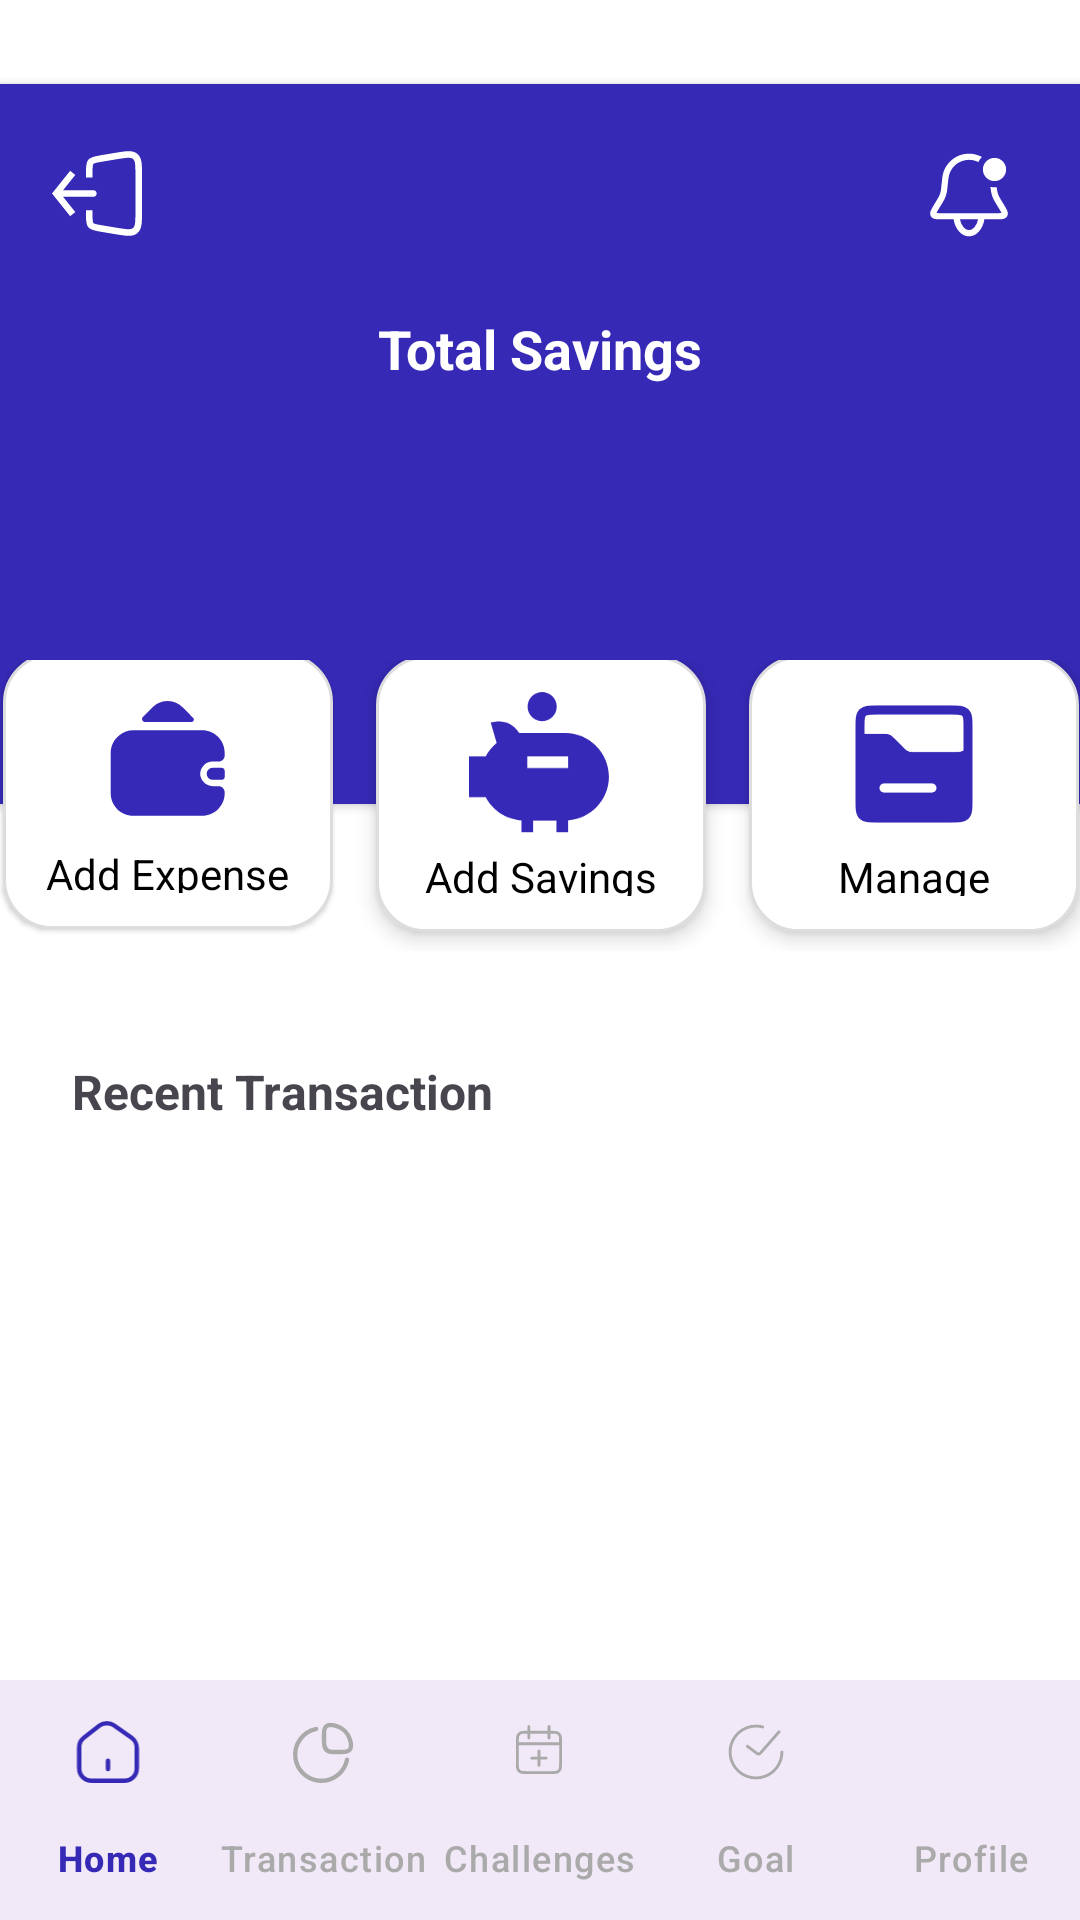

Icons on this 1080*1920 Android screen, each with the point to tap as point (x, y):
Notification: point (969, 195)
